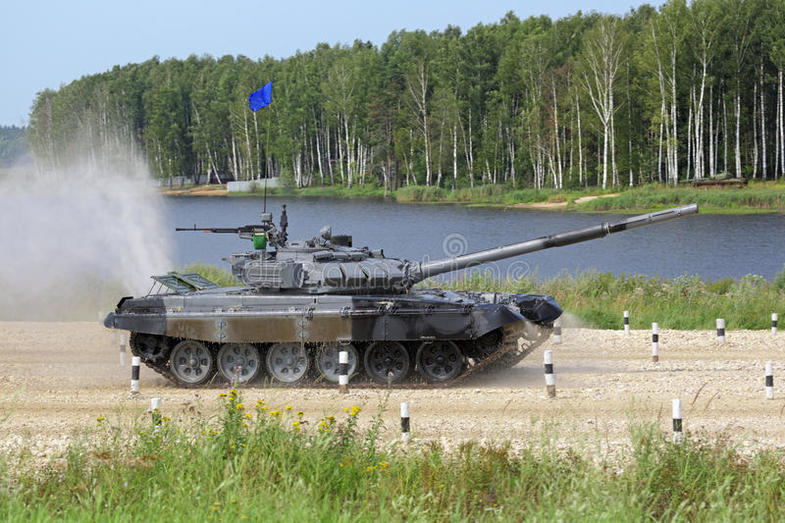t72: (110, 224, 566, 376)
